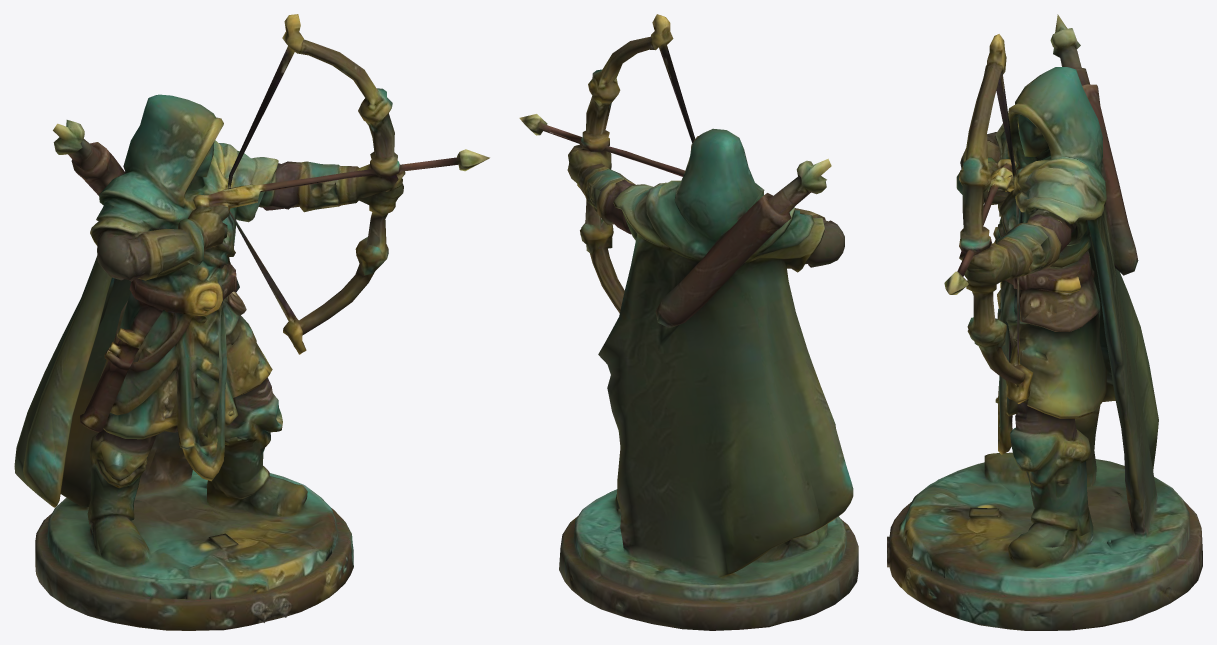
3 views of the same model, side by side, from view 1: azimuth 30°, elevation 25°; view 2: azimuth 150°, elevation 25°; view 3: azimuth 270°, elevation 25° (orthographic). The views are drawn at different scales.
Visible parts, largest first — view 1: tripo_node_99e8ea30-4f36-4c6b-a12c-3e69699dd474; view 2: tripo_node_99e8ea30-4f36-4c6b-a12c-3e69699dd474; view 3: tripo_node_99e8ea30-4f36-4c6b-a12c-3e69699dd474.
Boxes of the visible parts, x1,y1,x2,y2 form: tripo_node_99e8ea30-4f36-4c6b-a12c-3e69699dd474: (14,14,489,630); tripo_node_99e8ea30-4f36-4c6b-a12c-3e69699dd474: (519,14,858,630); tripo_node_99e8ea30-4f36-4c6b-a12c-3e69699dd474: (887,14,1202,630).
Bounding box in the file's own units: 0.773 × 1 × 0.5068.
1 material, 1 textured.
